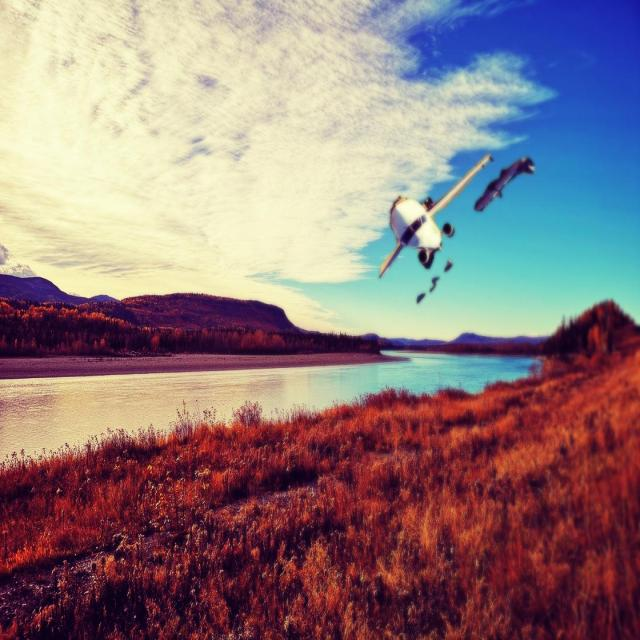airplane: (378, 152, 493, 278), (473, 155, 535, 212)
